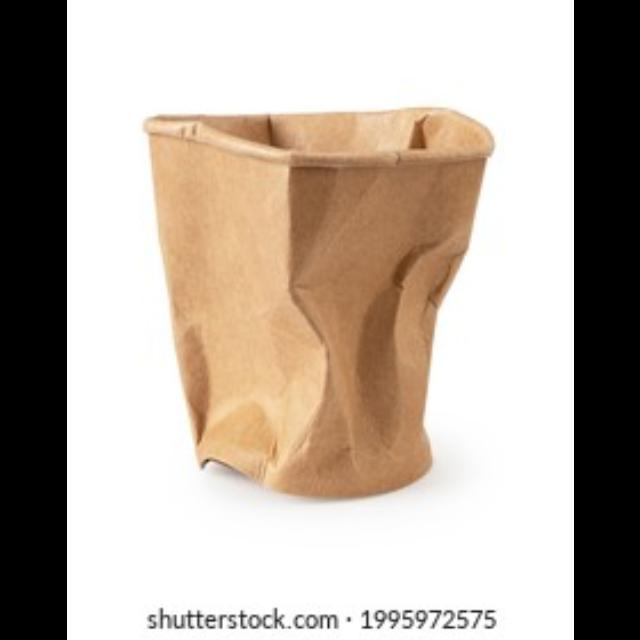trash: (138, 100, 494, 500)
